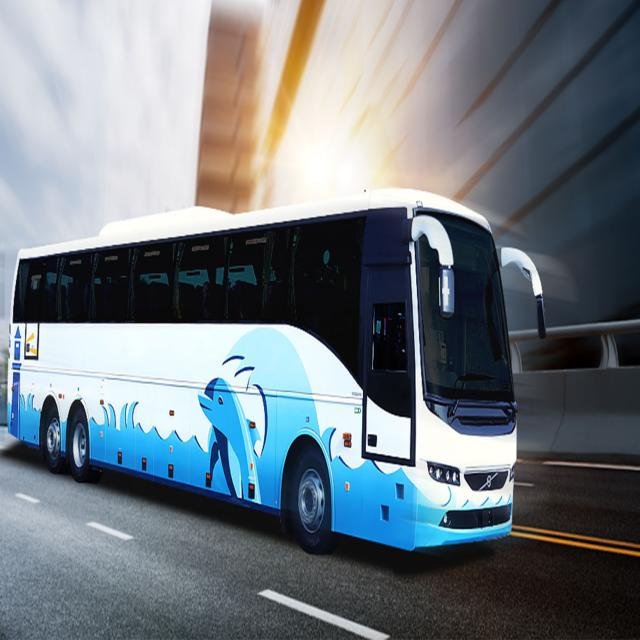bus: (9, 188, 545, 554)
